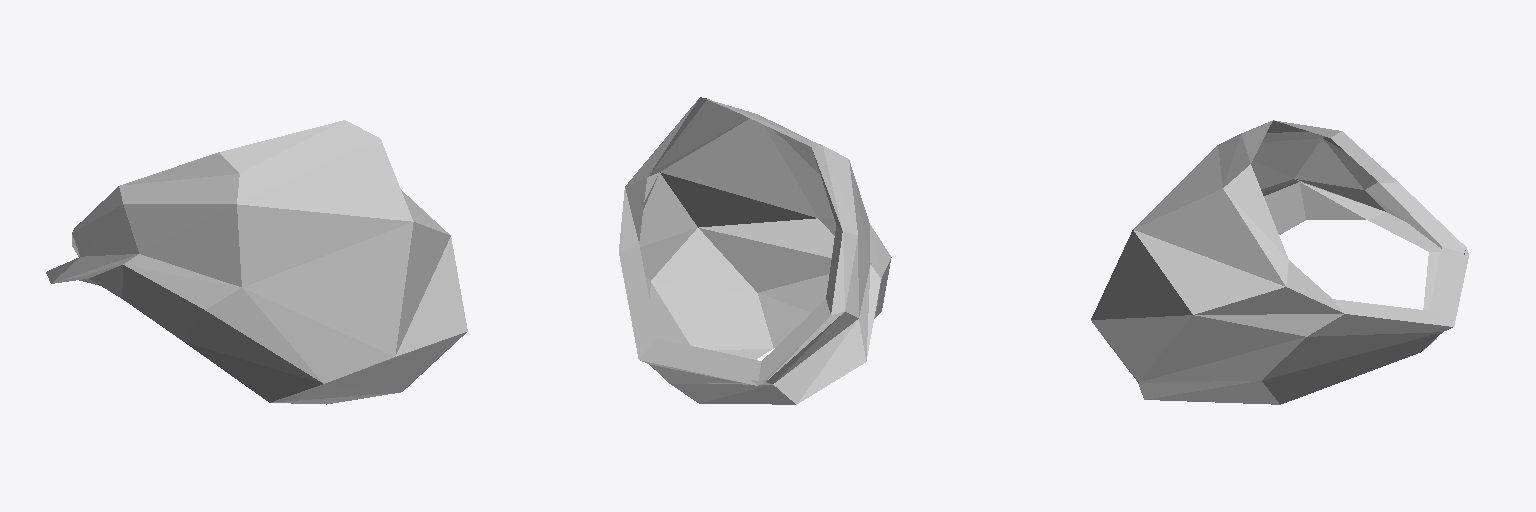
File: Bandage Sculpt_Part 1.obj
3 renders of one model, left to right at view 1: azimuth 30°, elevation 25°; view 2: azimuth 150°, elevation 25°; view 3: azimuth 270°, elevation 25°, orthographic.
Parts seen in each view (by area): view 1: Bandage_Obj; view 2: Bandage_Obj; view 3: Bandage_Obj.
Boxes of the visible parts, x1=… form: Bandage_Obj: x1=46, y1=120, x2=467, y2=404; Bandage_Obj: x1=619, y1=97, x2=891, y2=404; Bandage_Obj: x1=1091, y1=120, x2=1468, y2=404.
Bounding box in the file's own units: 2.12 × 1.72 × 2.29.